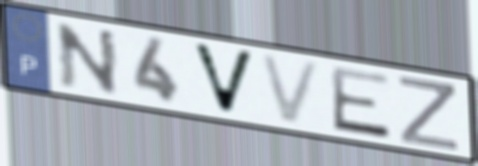4: (130, 34, 182, 107)
E: (328, 64, 394, 142)
N: (52, 20, 121, 98)
V: (188, 40, 258, 118), (256, 51, 326, 128)
Z: (396, 73, 462, 153)
